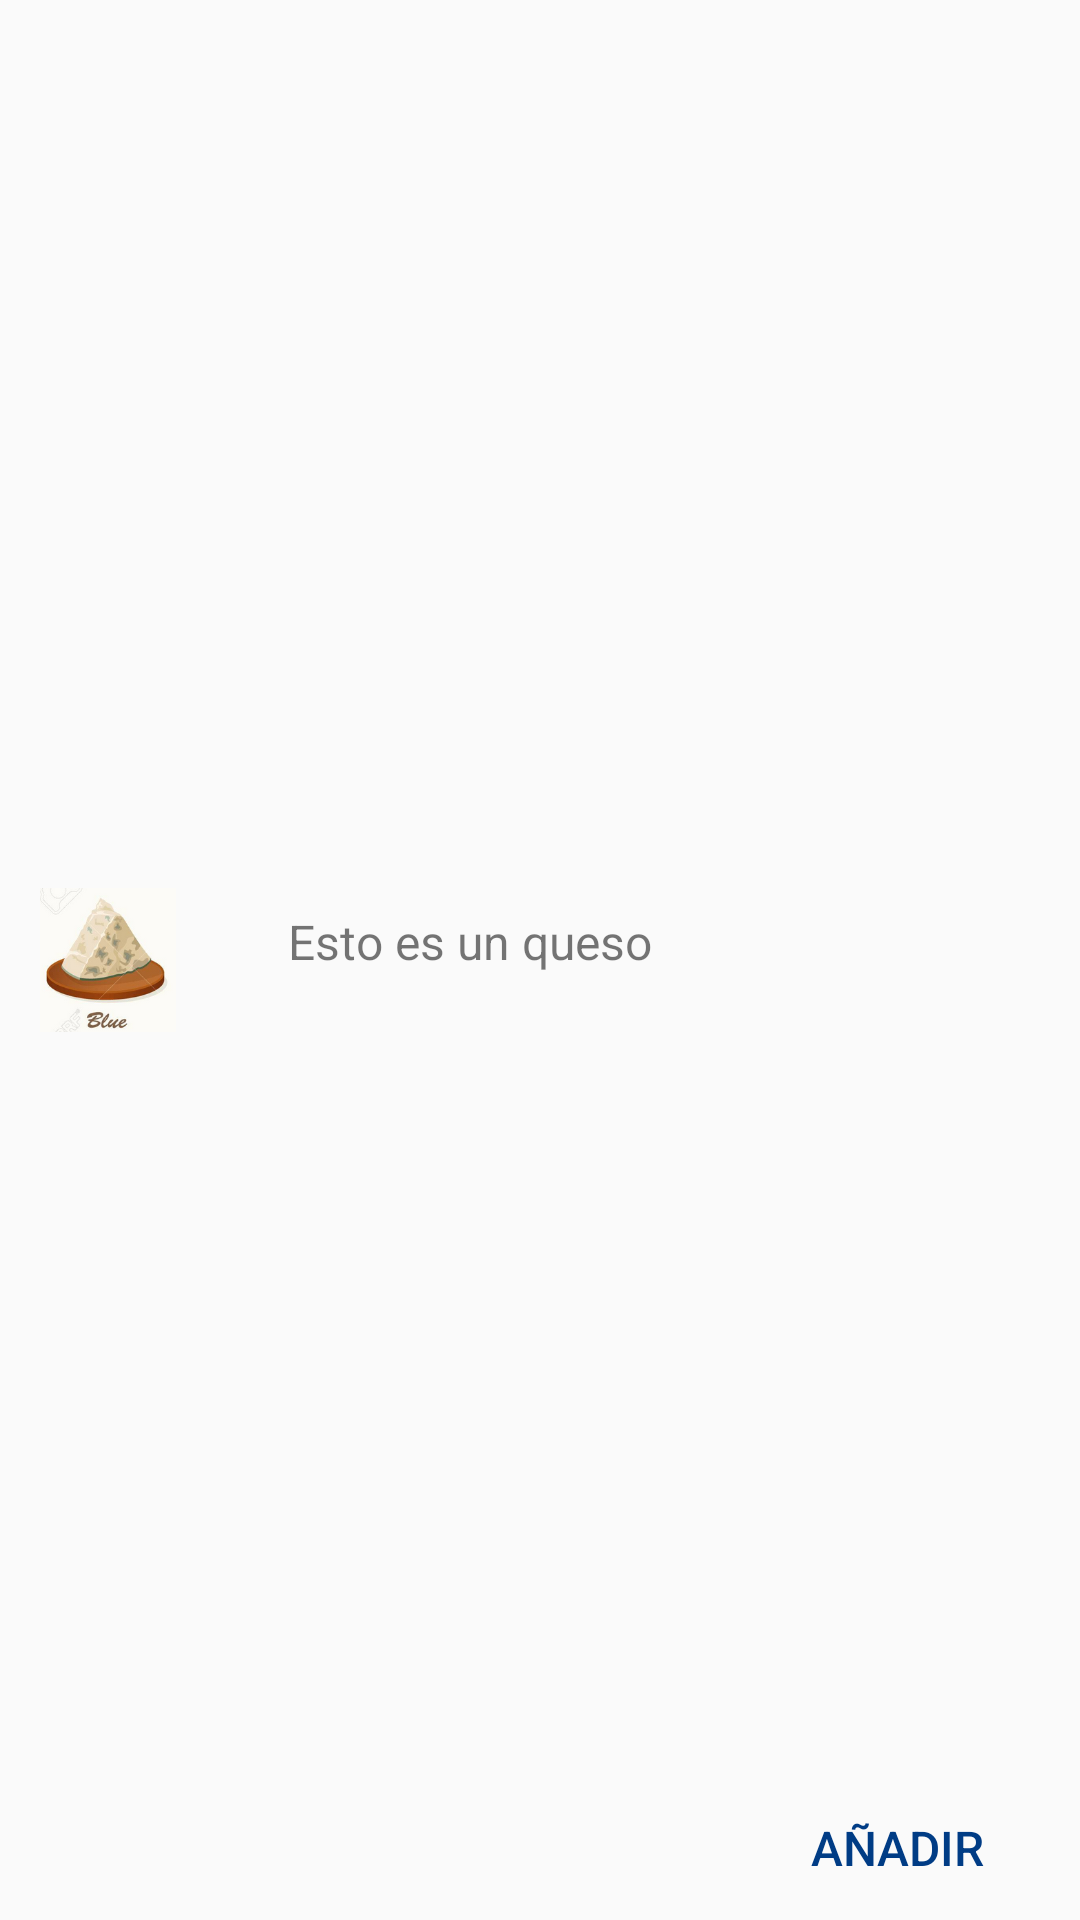

Screen size 1080 x 1920. Icon name, then its box in pixels as detection(x1, y1, x2, y2):
Imagen del queso: detection(42, 888, 167, 1030)
